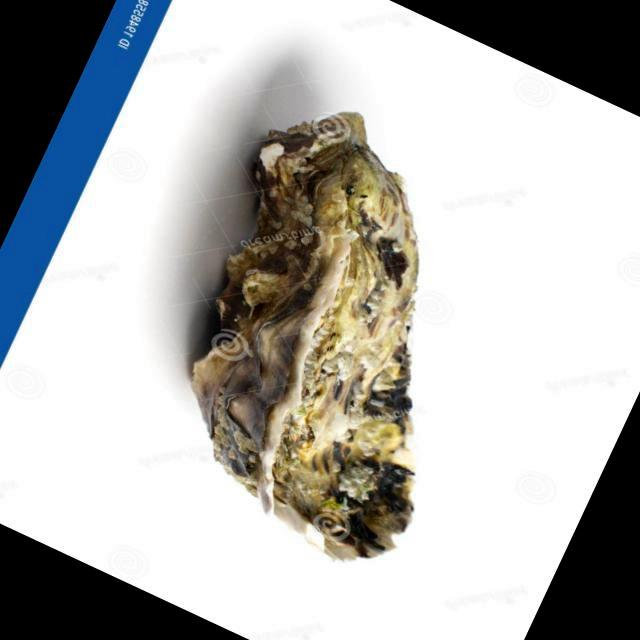Oyster-Closed: (192, 112, 418, 557)
